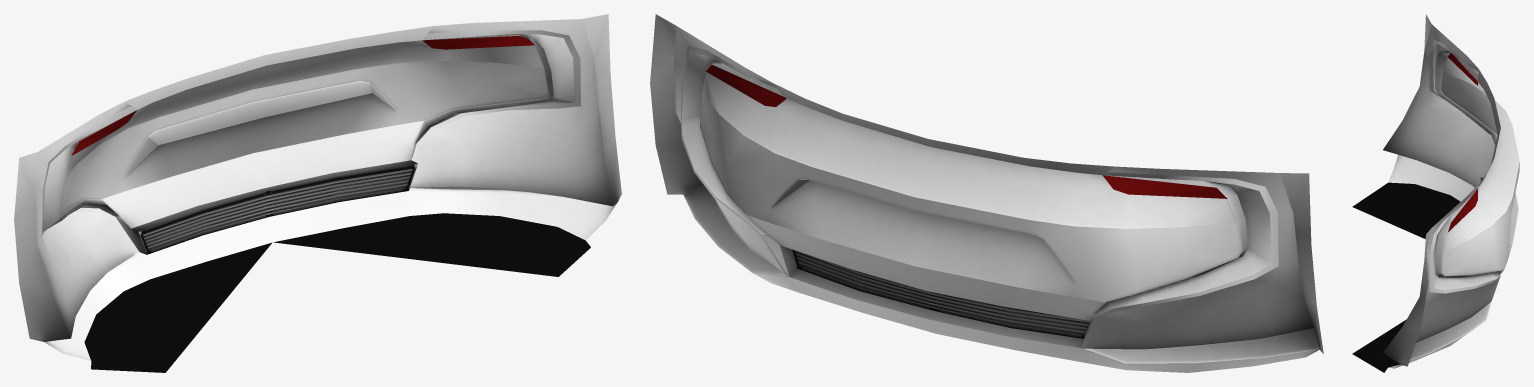
File: Sport_07_Bumper_B_1.fbx
3 views of the same model, side by side, from view 1: azimuth 30°, elevation 25°; view 2: azimuth 150°, elevation 25°; view 3: azimuth 270°, elevation 25° (orthographic). The views are drawn at different scales.
Visible parts, largest first — view 1: Sport_07_Bumper_B_1; view 2: Sport_07_Bumper_B_1; view 3: Sport_07_Bumper_B_1.
Boxes of the visible parts, left/top/right/bottom form: Sport_07_Bumper_B_1: left=14, top=14, right=621, bottom=372; Sport_07_Bumper_B_1: left=650, top=14, right=1323, bottom=372; Sport_07_Bumper_B_1: left=1352, top=14, right=1519, bottom=372.
Bounding box in the file's own units: 178 × 58.07 × 56.56.
